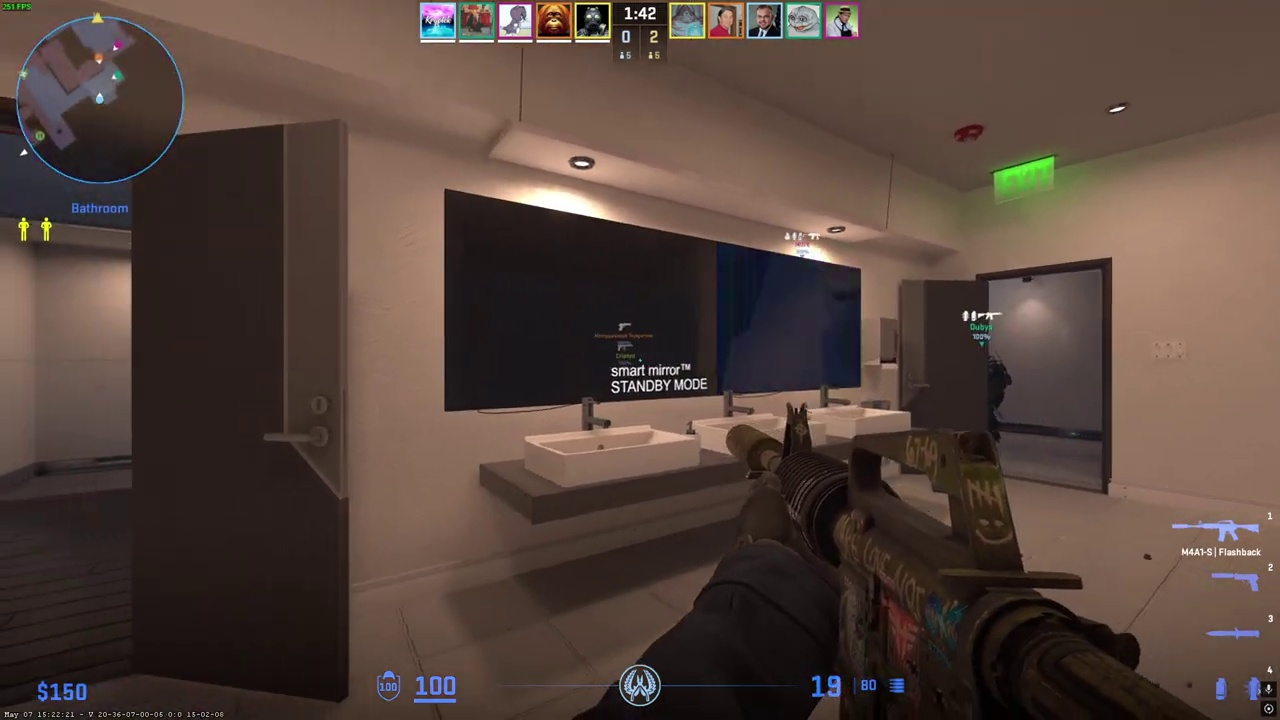CT: (986, 346, 1010, 442)
